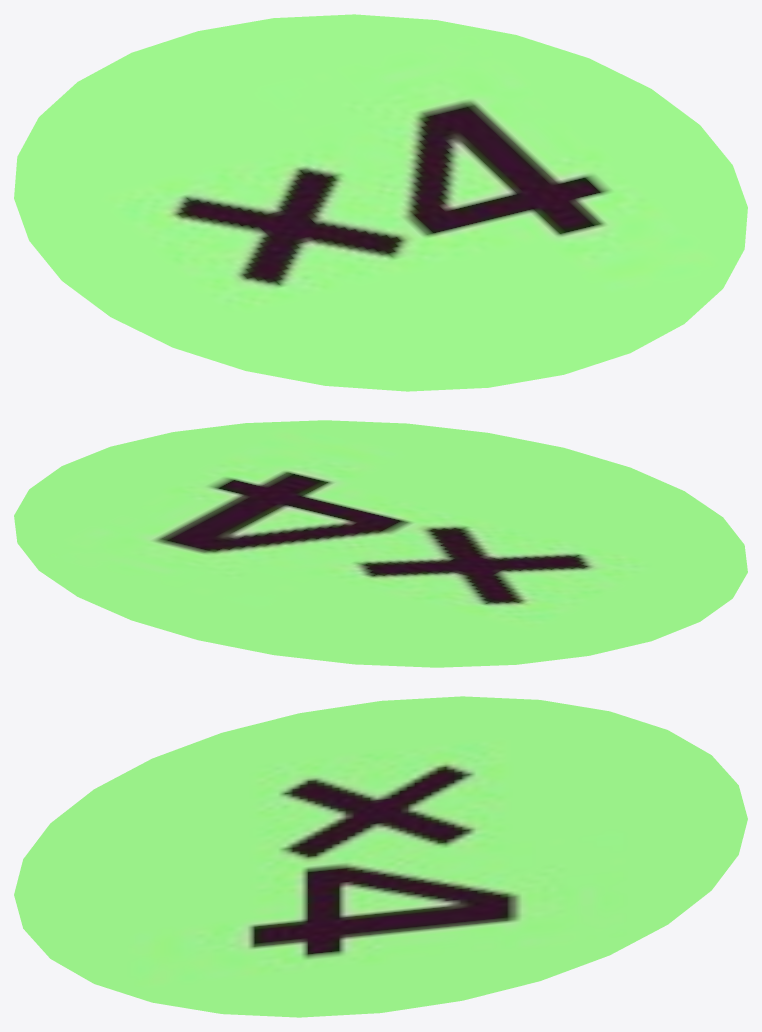
File: pp_light_mult4.glb
3 views of the same model, one above another, from view 1: azimuth 30°, elevation 25°; view 2: azimuth 150°, elevation 25°; view 3: azimuth 270°, elevation 25° (orthographic).
Parts seen in each view (by area): view 1: MultLight; view 2: MultLight; view 3: MultLight.
Boxes of the visible parts, <box> form: MultLight: <box>14,14,747,391</box>; MultLight: <box>14,420,747,667</box>; MultLight: <box>14,696,747,1017</box>.
Size of the model in its own units: 0.025 by 0.00283 by 0.0248.
1 material, 1 textured.
